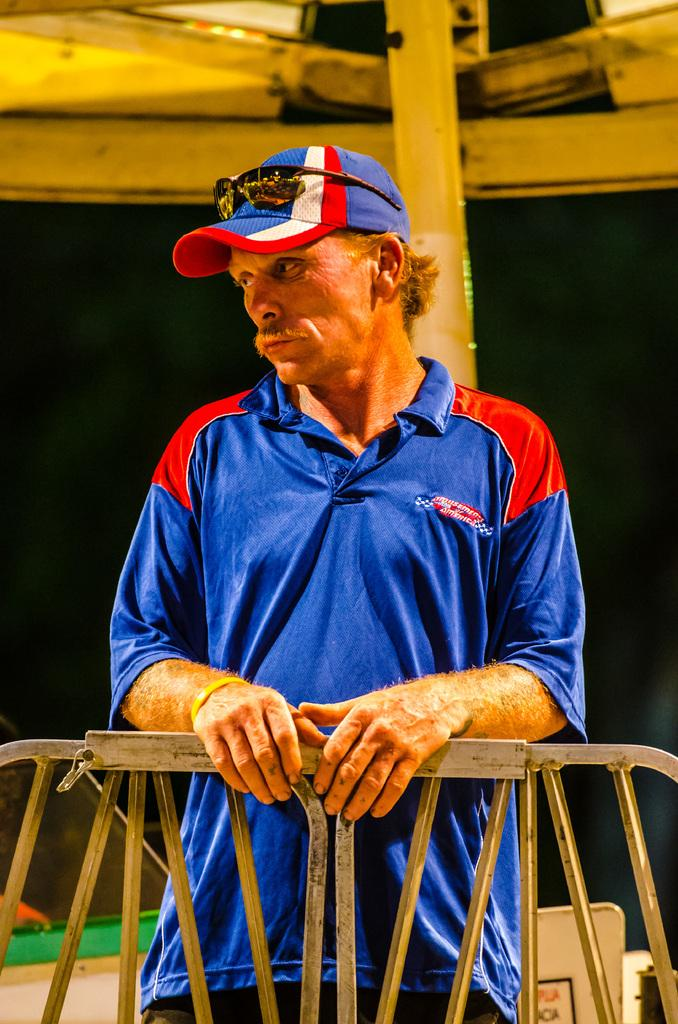Hat: (168, 140, 414, 278)
